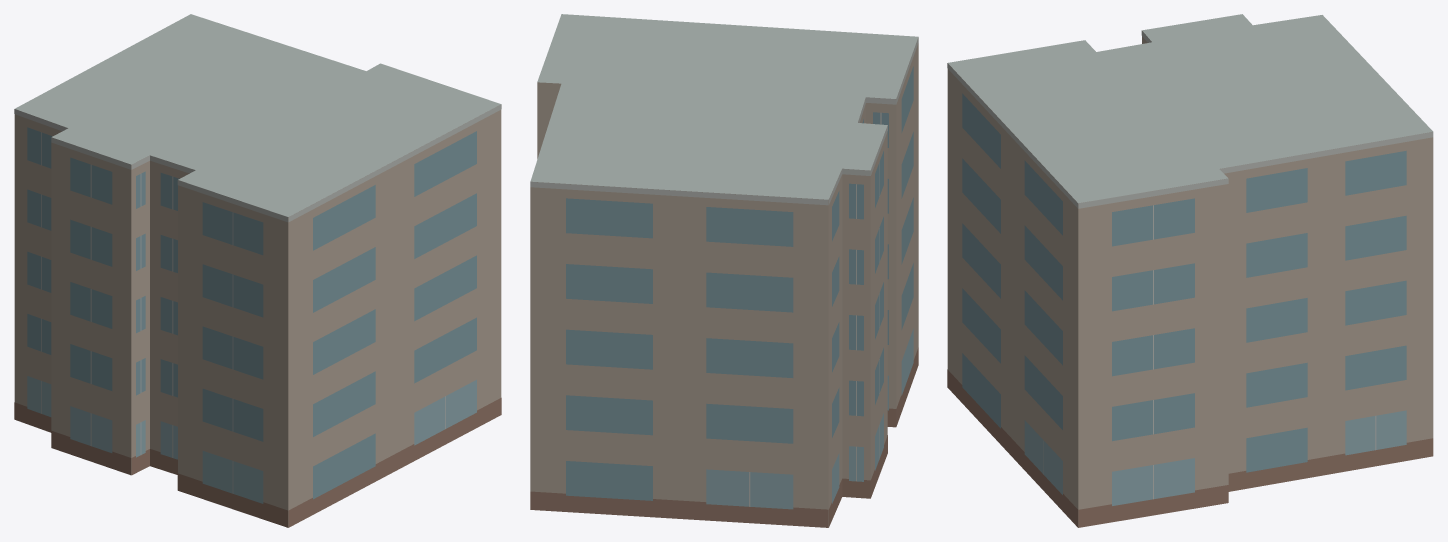
The model's file is survey-upis-32617494.glb.
3 renders of one model, left to right at view 1: azimuth 30°, elevation 25°; view 2: azimuth 150°, elevation 25°; view 3: azimuth 270°, elevation 25°, orthographic. The views are drawn at different scales.
Parts seen in each view (by area): view 1: survey-upis-32617494.tmp; view 2: survey-upis-32617494.tmp; view 3: survey-upis-32617494.tmp.
Boxes of the visible parts, x1=… form: survey-upis-32617494.tmp: x1=14, y1=14, x2=501, y2=527; survey-upis-32617494.tmp: x1=530, y1=14, x2=918, y2=527; survey-upis-32617494.tmp: x1=947, y1=14, x2=1433, y2=527.
Bounding box in the file's own units: 17.9 × 14.3 × 19.41.
